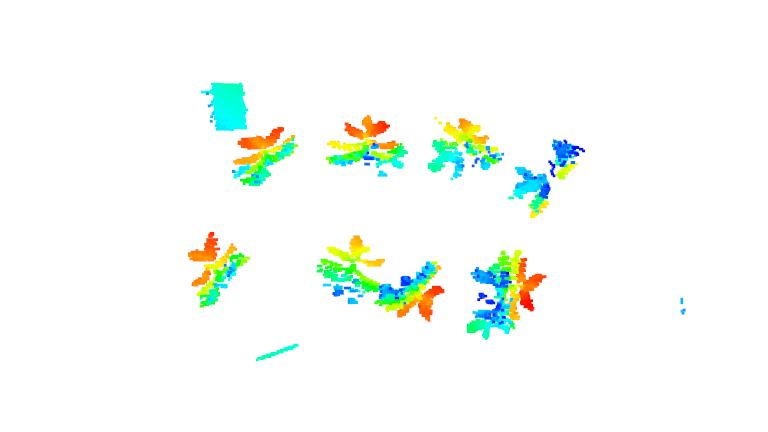chickpea: (469, 247, 543, 340), (503, 138, 584, 218), (324, 109, 410, 179), (426, 113, 506, 185), (318, 232, 385, 305), (188, 229, 247, 309), (233, 122, 298, 193), (376, 259, 445, 319)
